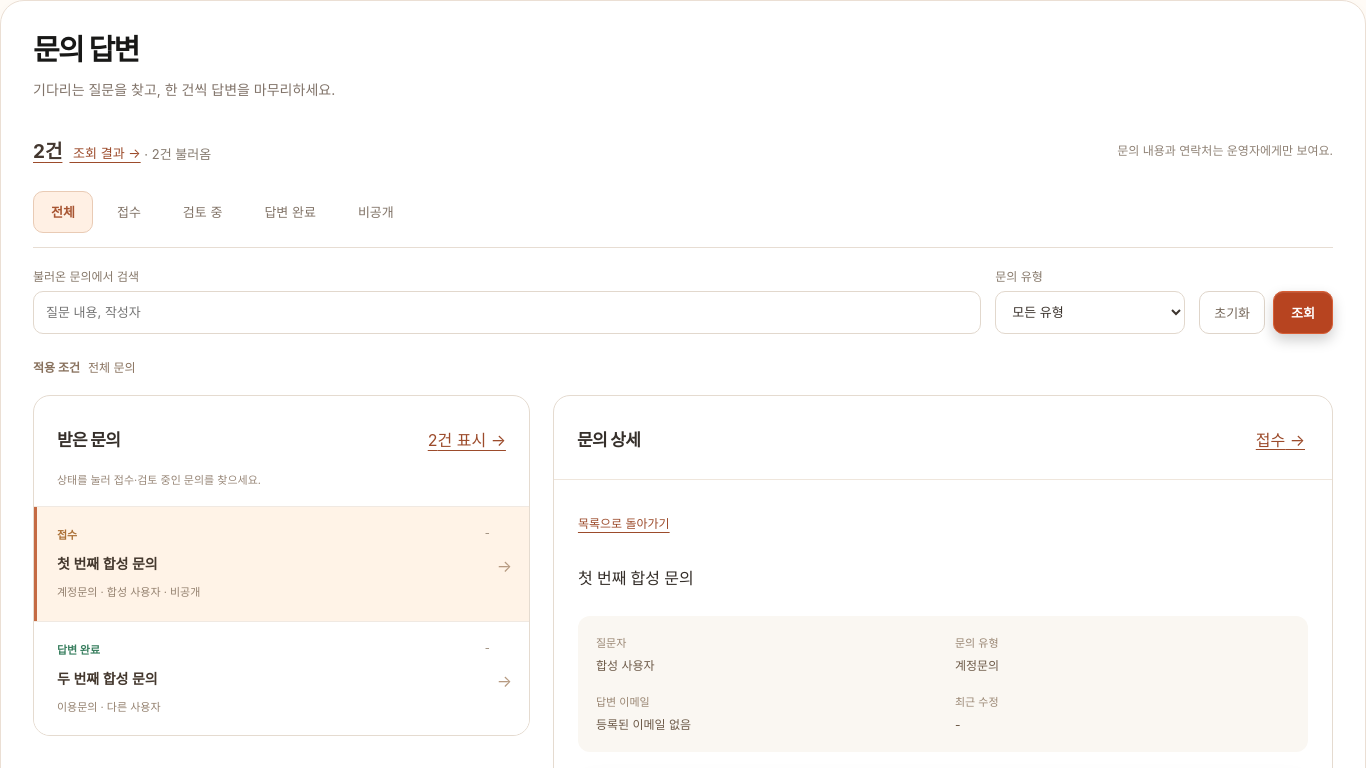
Scenario: a slower earlier Q&A status request cannot overwrite the latest selection
This screenshot has width=1366, height=768.
Expected: the button "접수 - 첫 번째 합성 문의 계정문의 · 합성 사용자 · 비공개 →" is shown, [34,507,529,621]
Click the button "접수" at (129, 212), box [99,191,159,233]
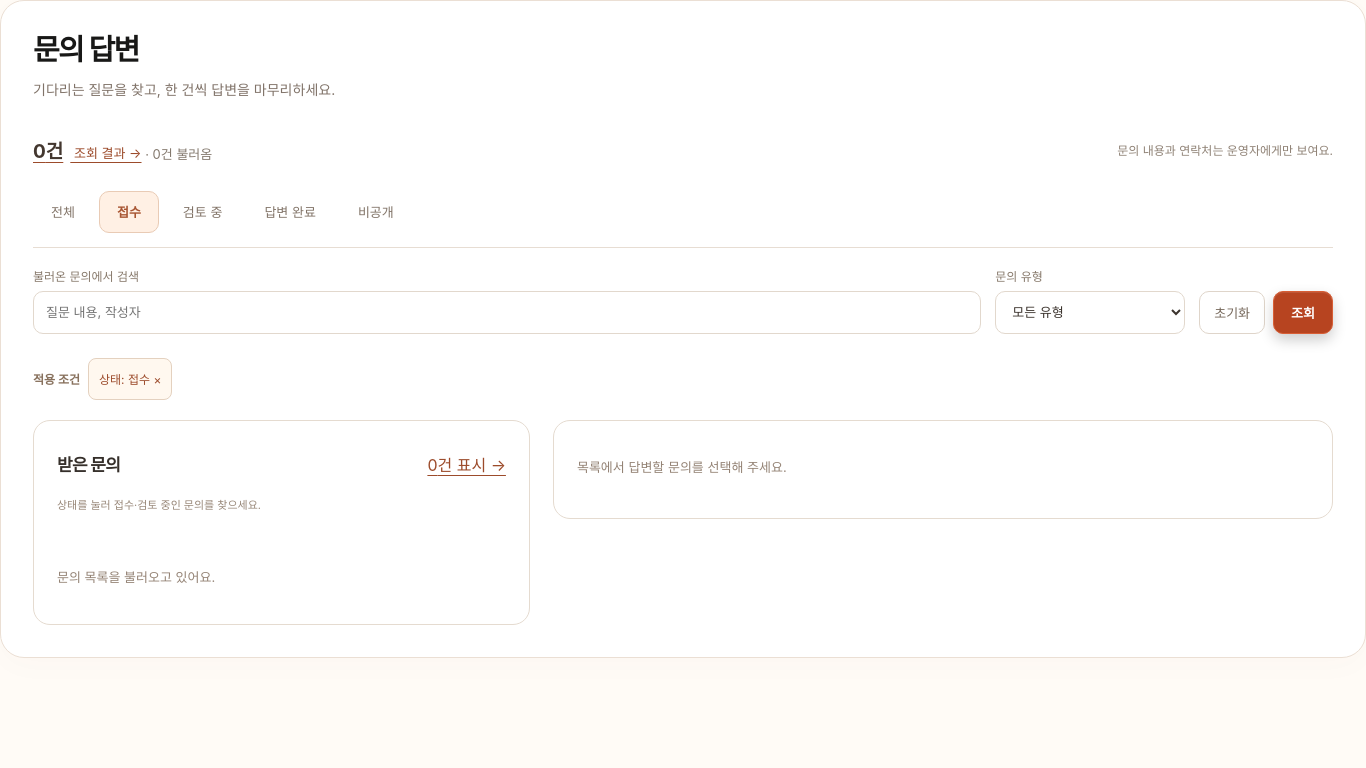
Click the button "답변 완료" at (290, 212), box [246,191,334,233]
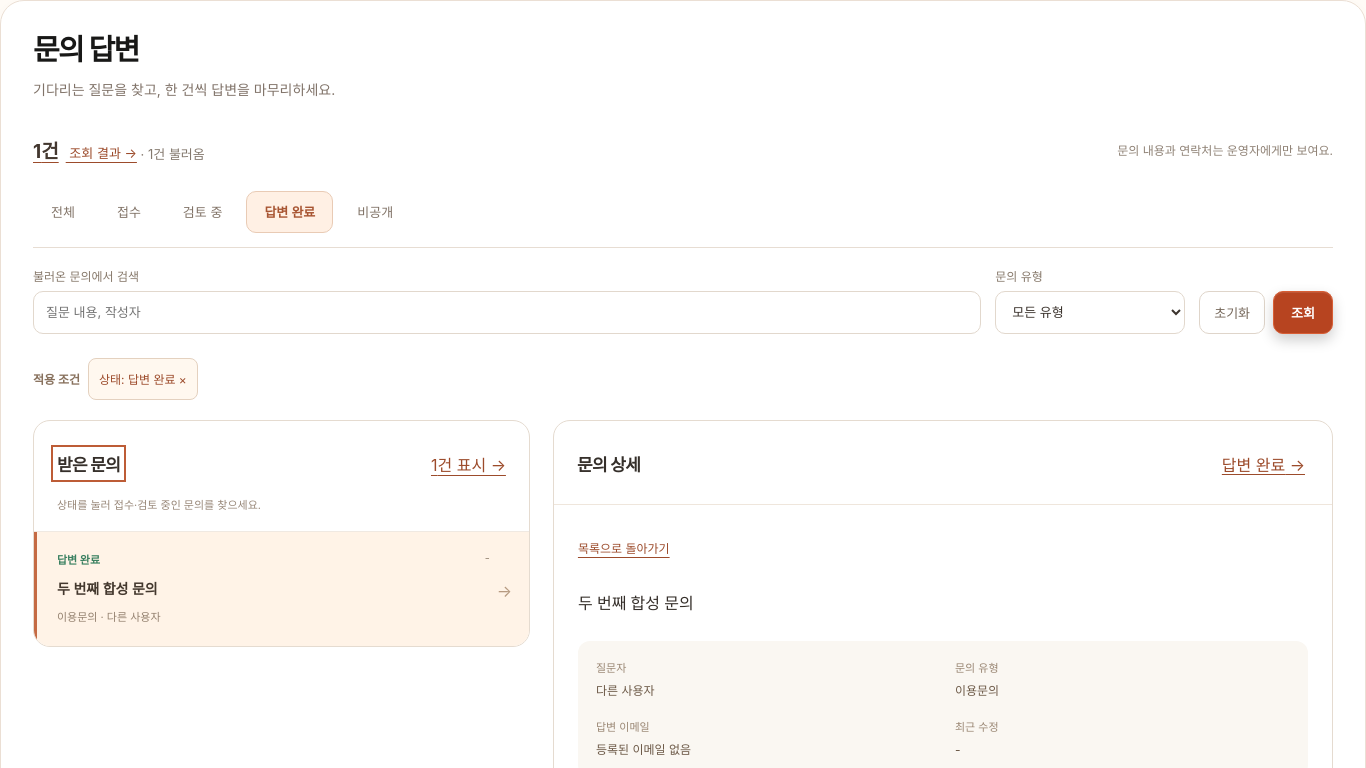
Expected: the button "첫 번째 합성 문의" is not shown
Expected: the button "답변 완료 - 두 번째 합성 문의 이용문의 · 다른 사용자 →" is shown, [34,532,529,646]
